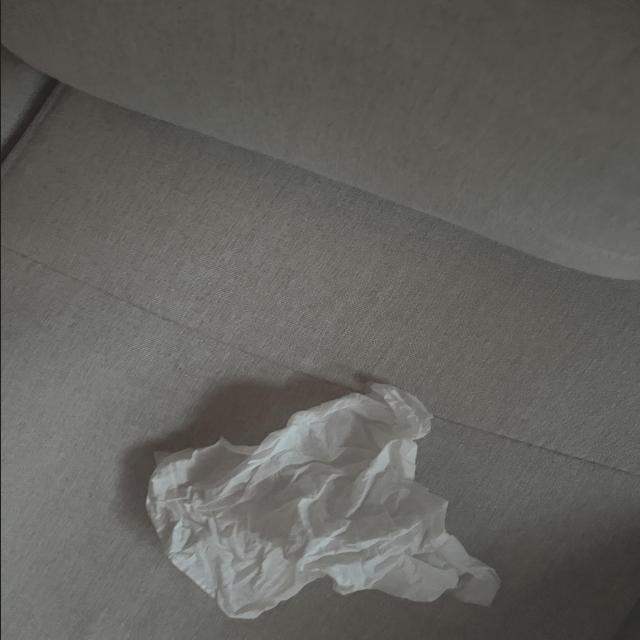Paper: (134, 373, 504, 612)
